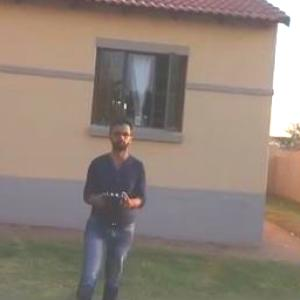follow: (74, 111, 152, 299)
